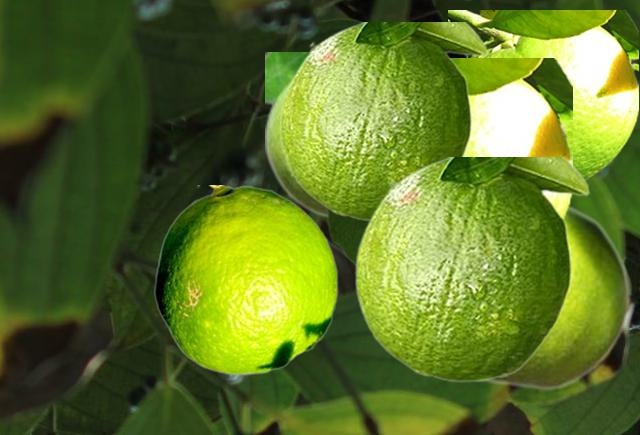dalandan: (354, 157, 589, 381), (323, 58, 571, 266), (279, 22, 487, 220), (154, 185, 337, 374), (448, 10, 637, 181), (464, 204, 630, 390), (265, 52, 326, 221)
